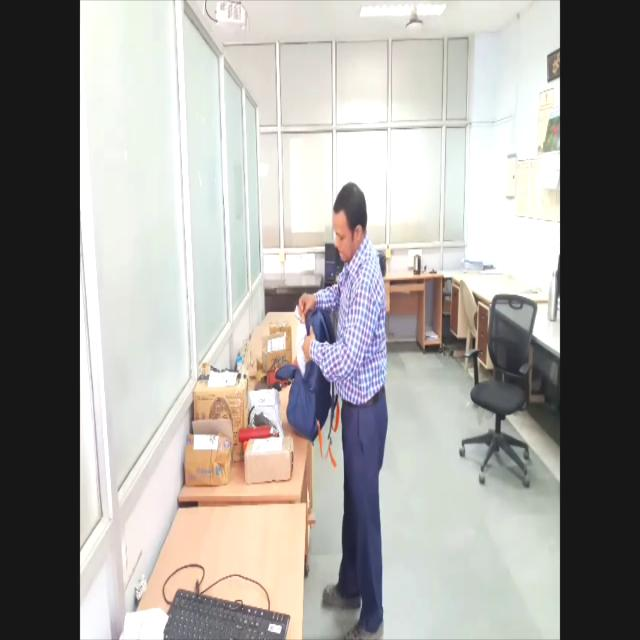shoplifting: (282, 179, 395, 640)
